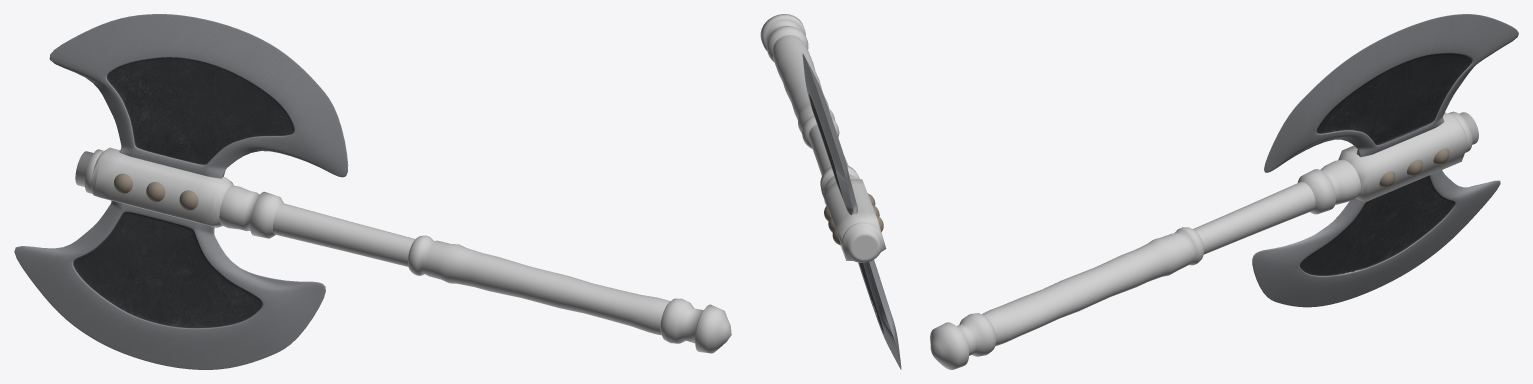
File: Labris_FBX.fbx
3 renders of one model, left to right at view 1: azimuth 30°, elevation 25°; view 2: azimuth 150°, elevation 25°; view 3: azimuth 270°, elevation 25°, orthographic. The views are drawn at different scales.
Visible parts, largest first — view 1: Blades, Hundle, Spheres; view 2: Hundle, Blades, Spheres; view 3: Blades, Hundle, Spheres.
Part boxes in pixels (x1=…): Blades: x1=14, y1=14, x2=348, y2=369; Hundle: x1=75, y1=147, x2=731, y2=353; Spheres: x1=114, y1=173, x2=198, y2=210; Hundle: x1=760, y1=14, x2=886, y2=262; Blades: x1=802, y1=54, x2=901, y2=369; Spheres: x1=824, y1=193, x2=883, y2=245; Blades: x1=1252, y1=14, x2=1518, y2=307; Hundle: x1=930, y1=111, x2=1478, y2=369; Spheres: x1=1379, y1=148, x2=1449, y2=187.
Size of the model in its own units: 432 by 299 by 531.
